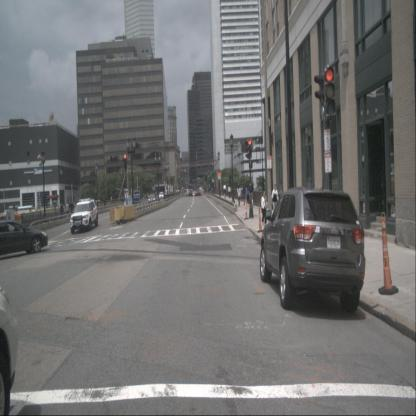human-pedestrian-adult: (271, 182, 280, 222), (260, 186, 267, 229), (236, 182, 242, 207), (59, 201, 65, 223), (69, 197, 74, 219), (245, 184, 250, 206), (250, 183, 254, 207), (65, 201, 70, 219), (228, 185, 233, 203), (223, 183, 226, 200), (104, 196, 106, 211)
movable_object-trafficcone: (378, 212, 399, 296), (257, 202, 264, 233), (244, 194, 249, 221)
vehicle-bus-rigid: (18, 205, 36, 216)
vehicle-car: (260, 187, 366, 312), (0, 274, 21, 416), (0, 219, 48, 257), (124, 194, 138, 210), (148, 194, 157, 204), (159, 191, 164, 199), (188, 190, 193, 197), (194, 189, 199, 196)
